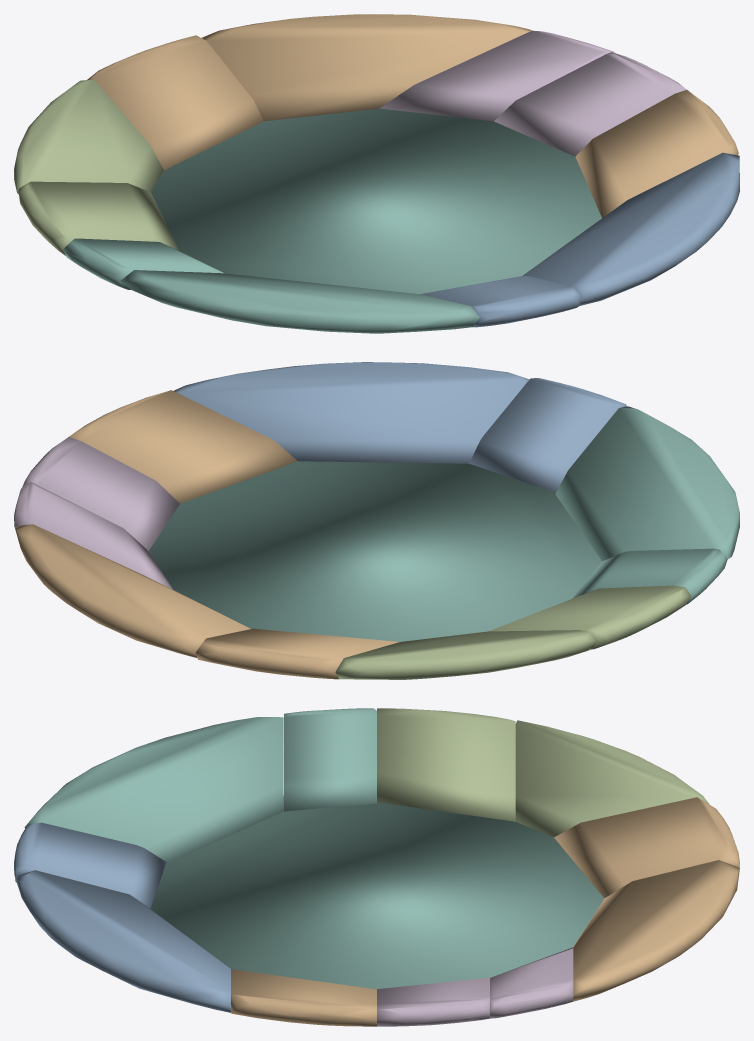
The picture shows the model from 3 angles, top to bottom: view 1: azimuth 30°, elevation 25°; view 2: azimuth 150°, elevation 25°; view 3: azimuth 270°, elevation 25°; orthographic projection.
Bounding box in the file's own units: 2.01 × 0.1924 × 2.01.
